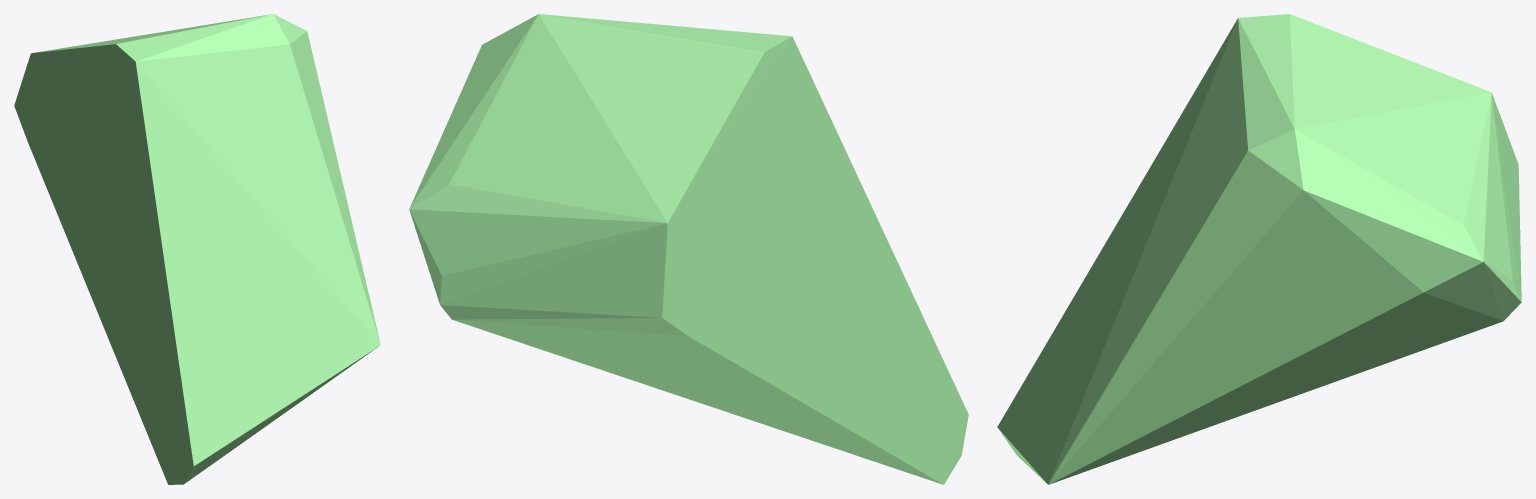
File: UMIRobot_UMIRobot_link_5_convex_coll_24.dae
3 views of the same model, side by side, from view 1: azimuth 30°, elevation 25°; view 2: azimuth 150°, elevation 25°; view 3: azimuth 270°, elevation 25° (orthographic). The views are drawn at different scales.
Visible parts, largest first — view 1: node; view 2: node; view 3: node.
Part boxes in pixels (bbox=[...]): node: bbox=[14, 14, 380, 484]; node: bbox=[409, 14, 968, 484]; node: bbox=[997, 14, 1521, 484].
Size of the model in its own units: 0.0117 by 0.0175 by 0.0174.
